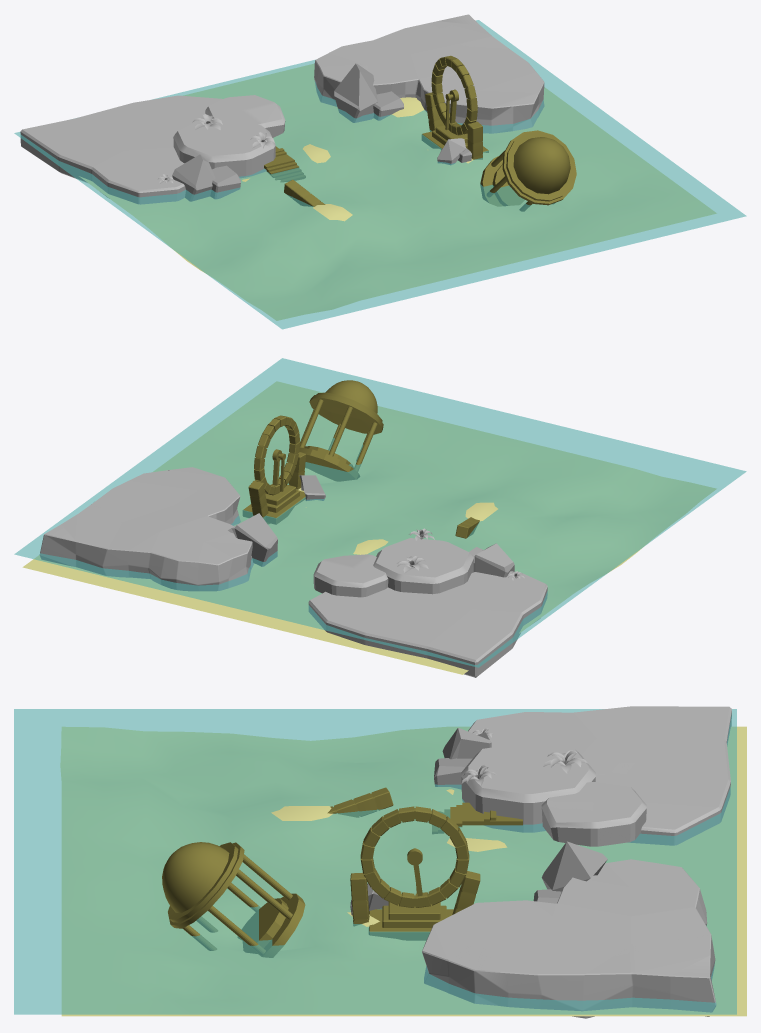
The model's file is level_01_BG 1.fbx.
3 renders of one model, top to bottom at view 1: azimuth 30°, elevation 25°; view 2: azimuth 150°, elevation 25°; view 3: azimuth 270°, elevation 25°, orthographic. The views are drawn at different scales.
Parts seen in each view (by area): view 1: pPlane32, Level_01:pPlane1, Level_01:pCube8, Level_01:pCube20, Level_02:pSphere1, pCube6, Level_01:pCube7, pCube385, Level_02:pPipe1, pCube9, pCube10, pCube384 (+5 smaller); view 2: pPlane32, Level_01:pPlane1, Level_01:pCube8, Level_01:pCube20, pCube6, Level_01:pCube7, Level_02:pSphere1, Level_02:pPipe1, pCube385, pCylinder1, pCube9, pCube1 (+1 smaller); view 3: pPlane32, Level_01:pPlane1, Level_01:pCube8, Level_01:pCube20, pCube6, Level_01:pCube7, Level_02:pSphere1, Level_02:pPipe1, pCube385, pCylinder2, pCube2, pCube9 (+10 smaller).
Part boxes in pixels (x1,y1,x2,y2): pPlane32: (14, 20, 746, 329); Level_01:pPlane1: (79, 64, 716, 320); Level_01:pCube8: (314, 14, 544, 133); Level_01:pCube20: (20, 95, 222, 204); Level_02:pSphere1: (502, 130, 576, 205); pCube6: (173, 116, 275, 177); Level_01:pCube7: (205, 95, 285, 137); pCube385: (334, 63, 377, 122); Level_02:pPipe1: (431, 55, 477, 135); pCube9: (172, 154, 215, 201); pCube10: (210, 165, 240, 198); pCube384: (373, 91, 403, 120); pPlane32: (14, 358, 746, 667); Level_01:pPlane1: (22, 381, 716, 674); Level_01:pCube8: (40, 467, 253, 590); Level_01:pCube20: (308, 571, 547, 677); pCube6: (373, 538, 473, 594); Level_01:pCube7: (313, 554, 388, 597); Level_02:pSphere1: (309, 380, 383, 434); Level_02:pPipe1: (254, 415, 299, 495); pCube385: (228, 513, 277, 566); pCylinder1: (299, 447, 359, 481); pCube9: (474, 543, 514, 577); pCube1: (248, 480, 269, 523); pPlane32: (14, 709, 736, 1014); Level_01:pPlane1: (60, 726, 746, 1016); Level_01:pCube8: (422, 859, 716, 1018); Level_01:pCube20: (468, 706, 731, 845); pCube6: (461, 743, 595, 832); Level_01:pCube7: (541, 782, 646, 846); Level_02:pSphere1: (162, 842, 244, 928); Level_02:pPipe1: (360, 806, 469, 907); pCube385: (541, 841, 607, 891); pCylinder2: (237, 898, 288, 953); pCube2: (327, 787, 393, 817); pCube9: (442, 727, 491, 759).
Bounding box in the file's own units: 90.36 × 22.14 × 91.62.
